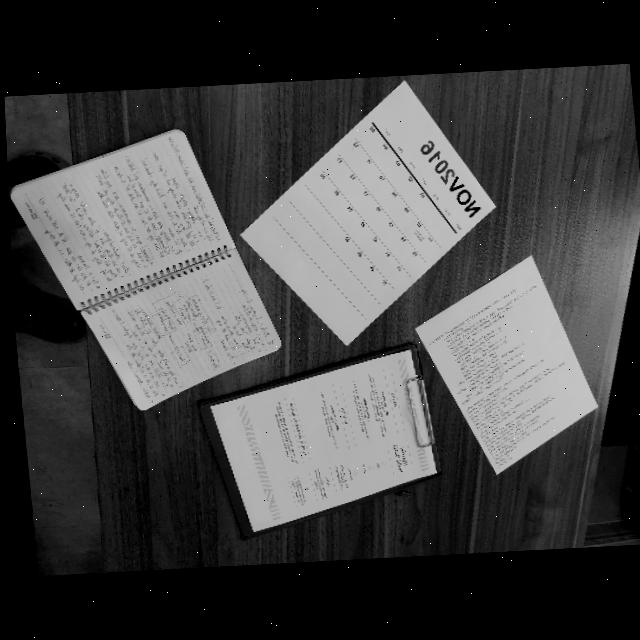document: (11, 130, 281, 410), (241, 81, 495, 345), (209, 349, 437, 532), (416, 256, 598, 474)
